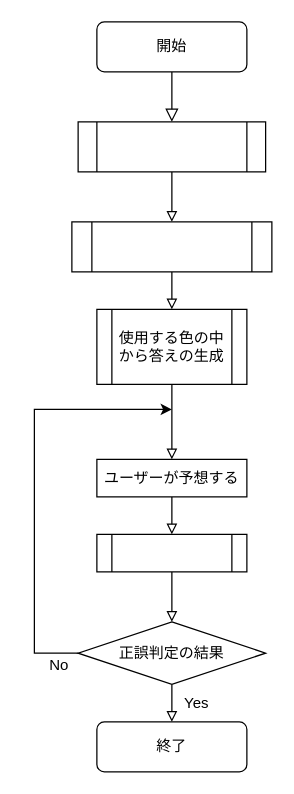
The diagram is 294 pixels wide and 794 high, and some of its shapes have lost their labels. The shapes that lost their labels are listed below. From the top down, each one's centre as x and y in pixels, then its label:
the point at 171,146: 色のカテゴリの選択
the point at 171,246: カテゴリの中から使用する色の選択
the point at 171,552: 正誤判定
